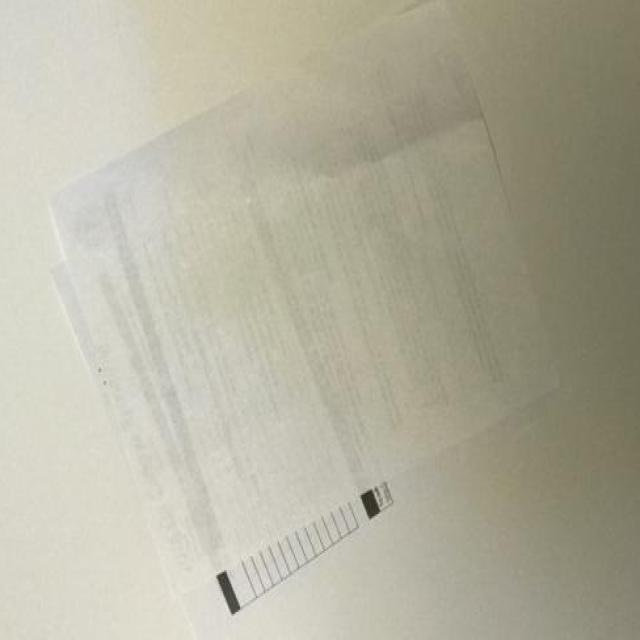kertas: (42, 0, 572, 640)
